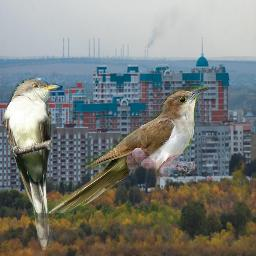Cuckoo: (46, 85, 208, 214), (4, 77, 60, 251)
